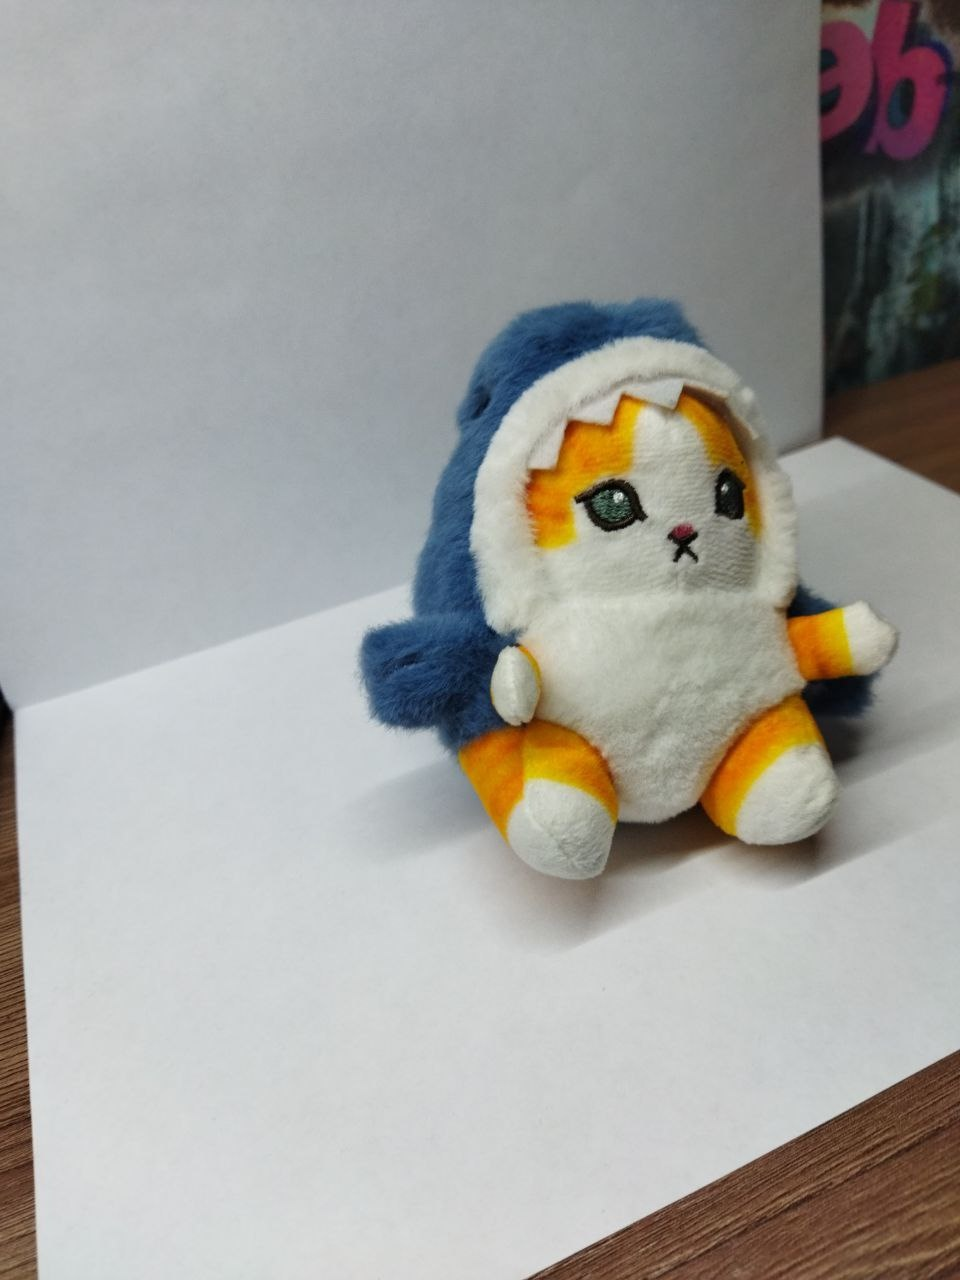Snark Cat: (355, 296, 899, 884)
